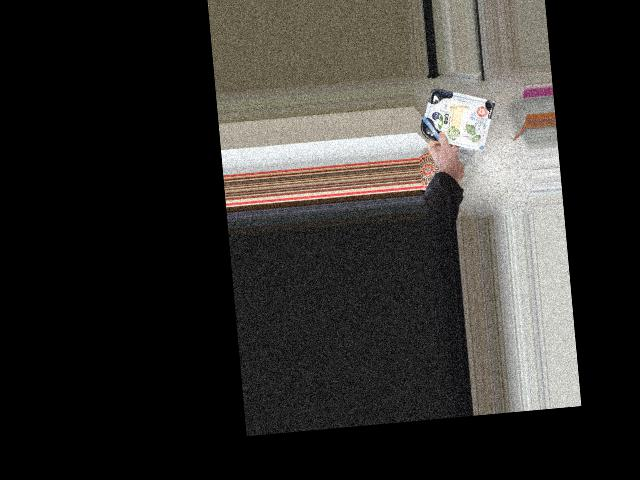cheese: (424, 93, 489, 145)
